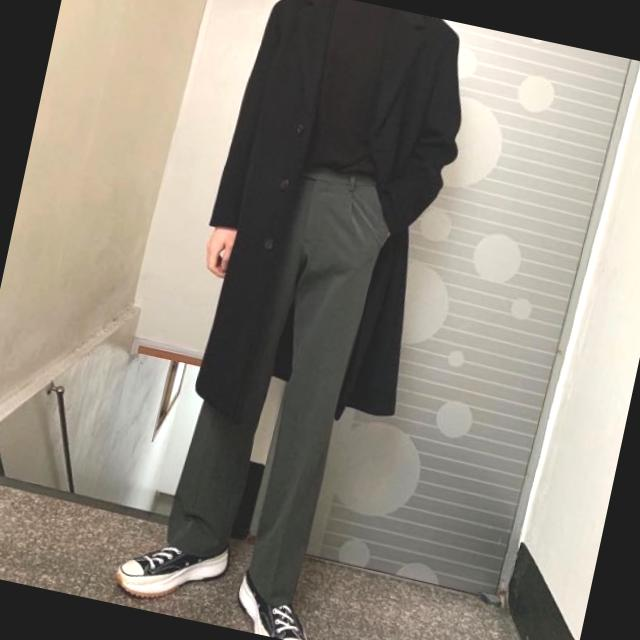coat: (170, 0, 484, 444)
slacks: (152, 147, 398, 615)
